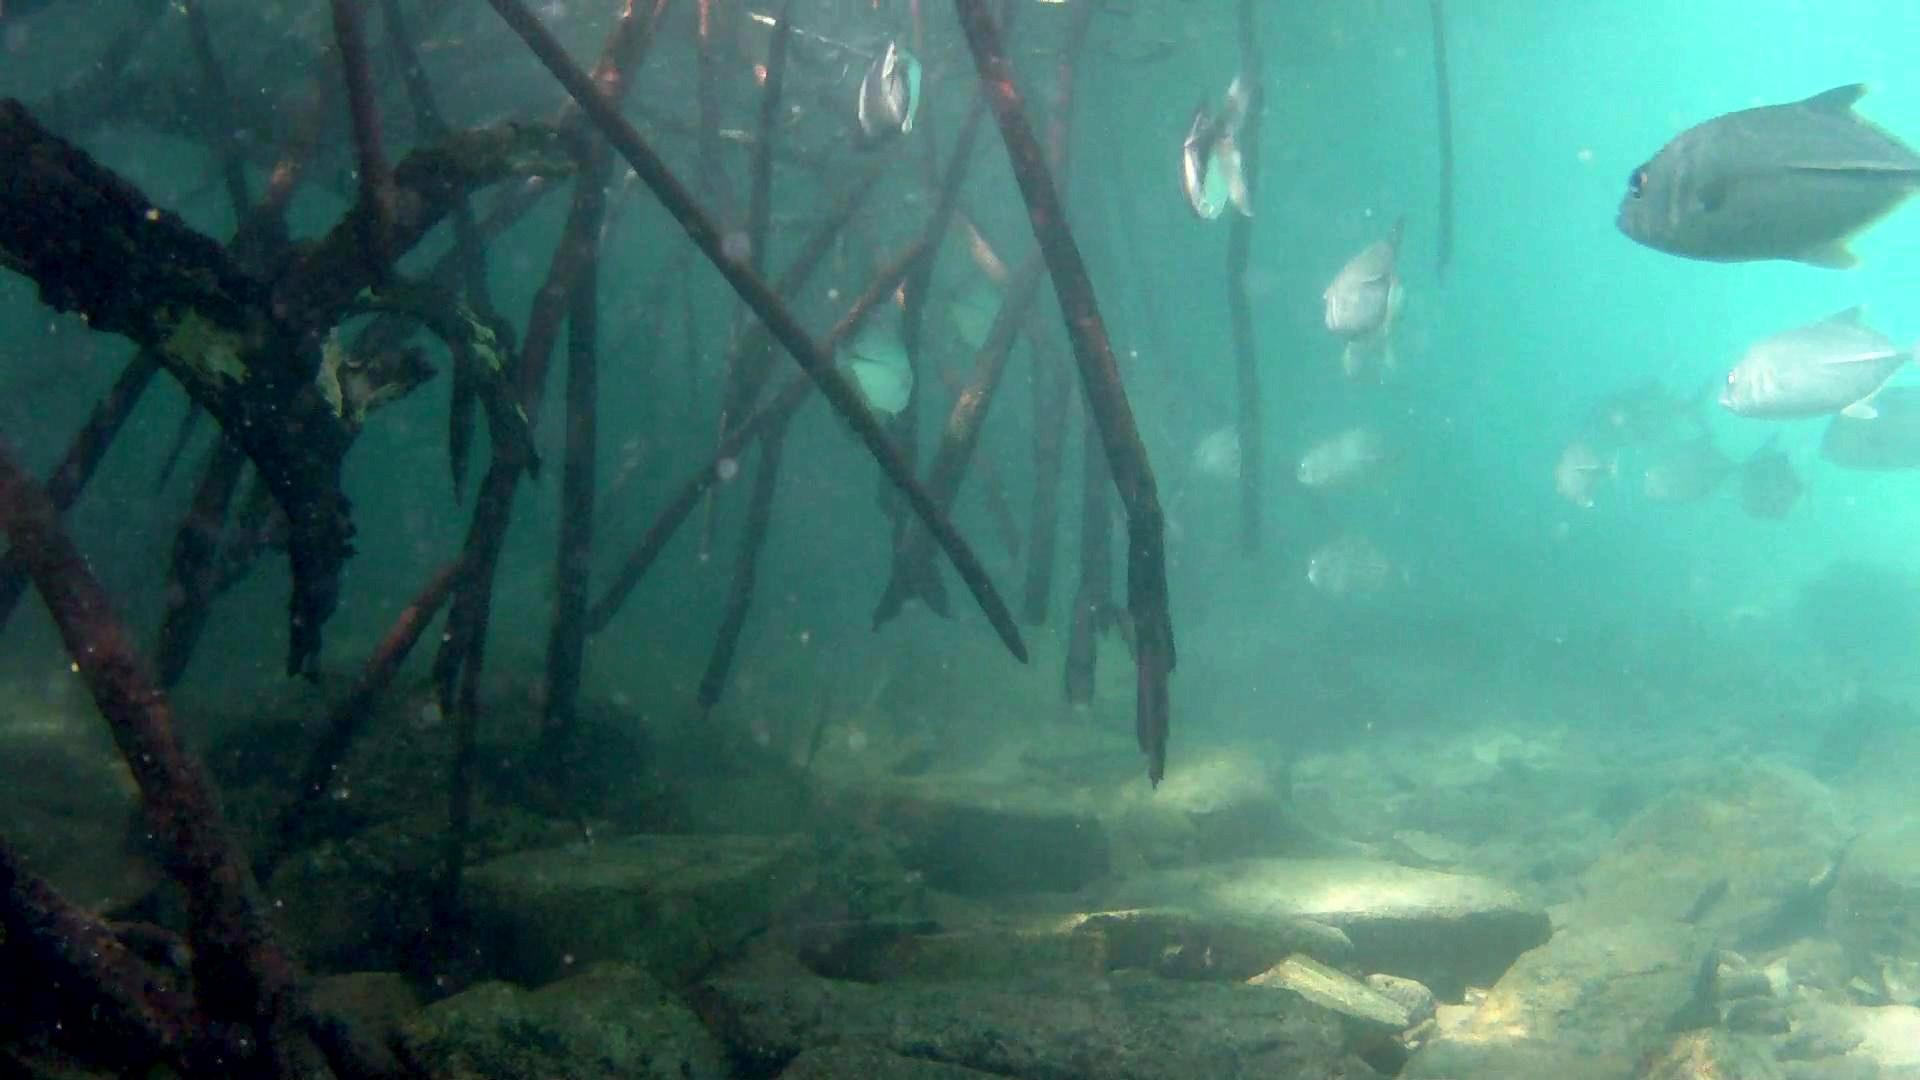caranx: (1612, 75, 1920, 277), (1710, 297, 1920, 428)
